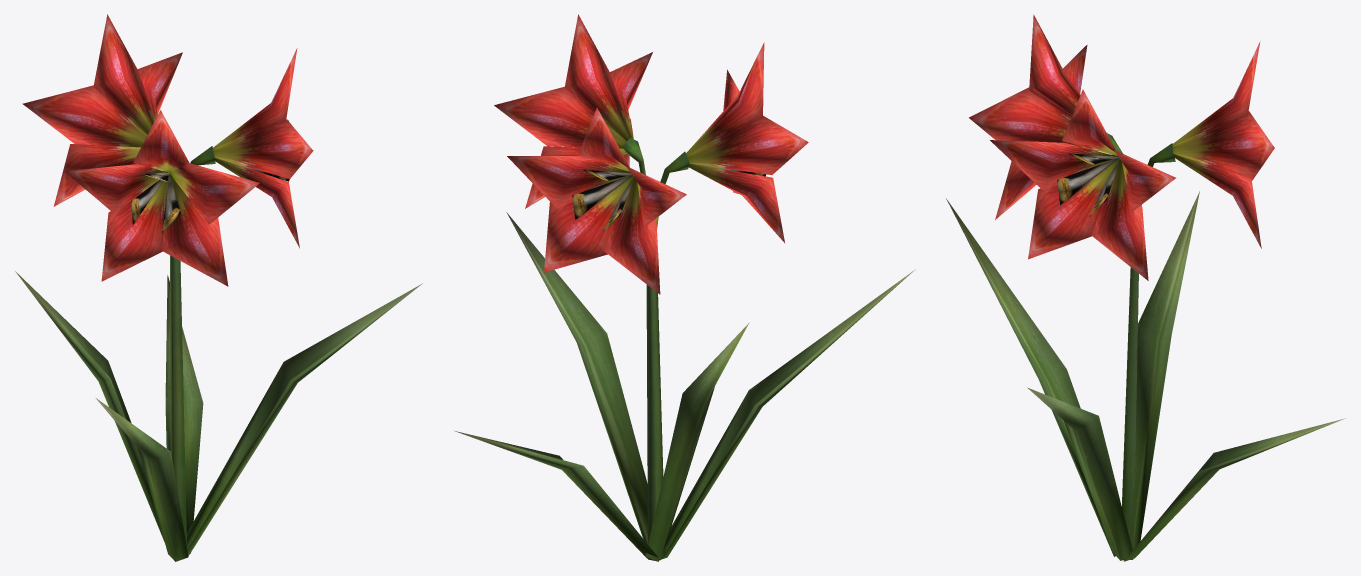
Rendered from Hippeastrum_m.FBX.
3 renders of one model, left to right at view 1: azimuth 30°, elevation 25°; view 2: azimuth 150°, elevation 25°; view 3: azimuth 270°, elevation 25°, orthographic. The views are drawn at different scales.
Parts seen in each view (by area): view 1: Hippeastrum001fdfds001; view 2: Hippeastrum001fdfds001; view 3: Hippeastrum001fdfds001.
Part boxes in pixels (x1=…): Hippeastrum001fdfds001: x1=15, y1=14, x2=422, y2=561; Hippeastrum001fdfds001: x1=455, y1=14, x2=915, y2=561; Hippeastrum001fdfds001: x1=946, y1=14, x2=1345, y2=561.
Bounding box in the file's own units: 57.84 × 75.27 × 52.77.
